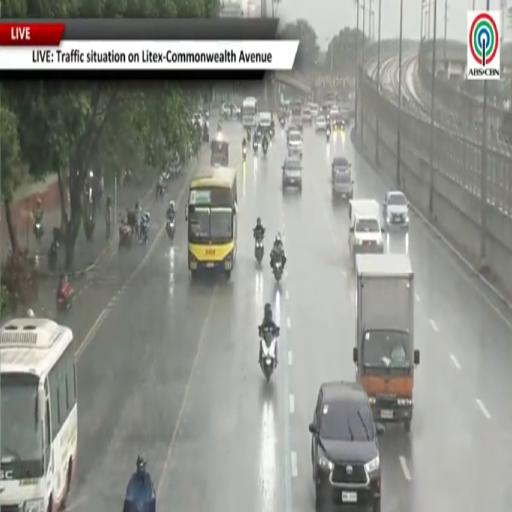bus: (0, 317, 77, 511), (186, 167, 237, 279), (242, 98, 258, 129), (291, 100, 303, 125)
car: (309, 381, 384, 511), (331, 156, 354, 199), (383, 190, 409, 228), (282, 156, 302, 191), (287, 130, 302, 156), (221, 102, 241, 119), (258, 112, 272, 133), (331, 112, 345, 131), (287, 123, 303, 136), (315, 115, 326, 131), (191, 112, 203, 125), (303, 106, 312, 123), (329, 104, 339, 118), (309, 103, 318, 118)
motorcycle: (123, 478, 155, 511), (260, 328, 279, 381), (57, 284, 73, 313), (48, 229, 59, 271), (119, 224, 133, 248), (272, 257, 283, 283), (140, 219, 149, 245), (33, 220, 43, 243), (255, 236, 263, 264), (166, 218, 175, 241), (203, 123, 209, 142), (262, 139, 268, 155), (253, 139, 258, 153), (243, 147, 247, 161), (326, 127, 330, 141), (269, 127, 274, 138), (247, 128, 251, 141), (280, 118, 285, 127)
truck: (353, 253, 419, 433), (349, 199, 384, 259)
